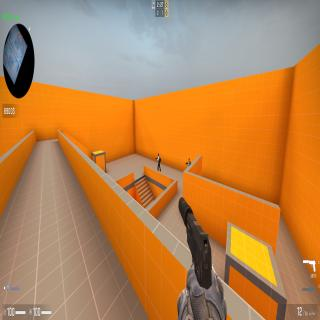T-Body: (157, 153, 161, 172), (188, 158, 190, 164)
T-Head: (188, 158, 190, 162), (158, 153, 159, 157)
